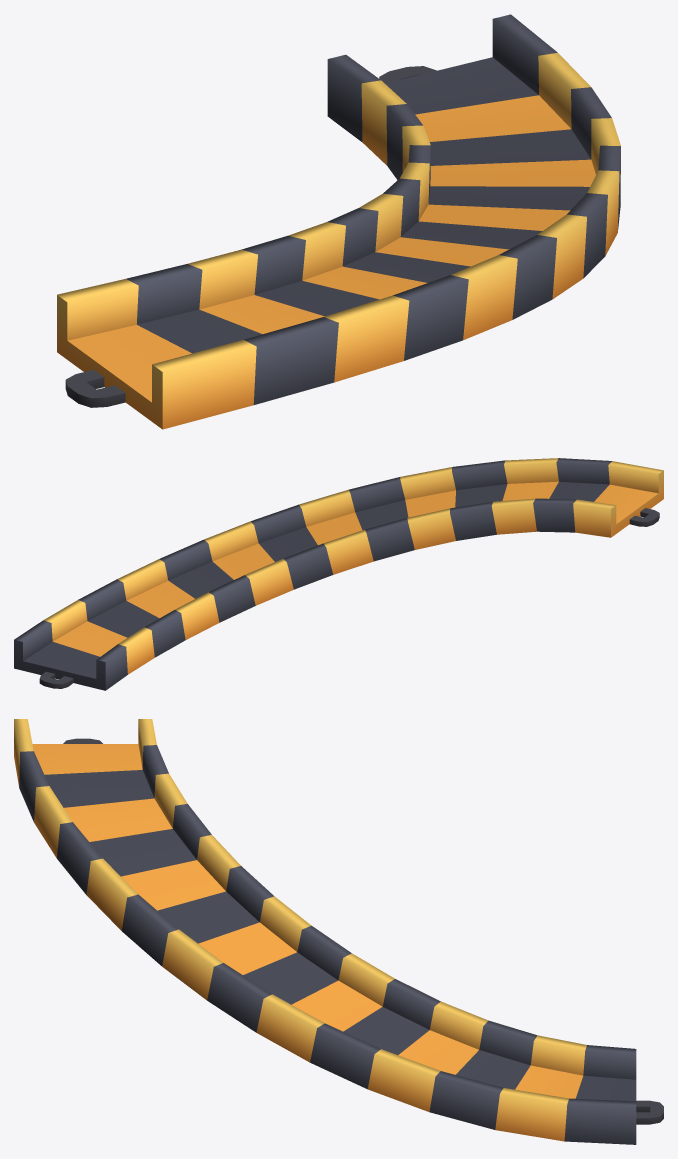
The model's file is track-striped-narrow-corner-large-ramp.fbx.
3 renders of one model, top to bottom at view 1: azimuth 30°, elevation 25°; view 2: azimuth 150°, elevation 25°; view 3: azimuth 270°, elevation 25°, orthographic. The views are drawn at different scales.
Visible parts, largest first — view 1: track-striped-narrow-corner-large-ramp; view 2: track-striped-narrow-corner-large-ramp; view 3: track-striped-narrow-corner-large-ramp.
Part boxes in pixels (bbox=[...]): track-striped-narrow-corner-large-ramp: bbox=[57, 14, 620, 429]; track-striped-narrow-corner-large-ramp: bbox=[14, 458, 663, 690]; track-striped-narrow-corner-large-ramp: bbox=[14, 719, 663, 1144].
Size of the model in its own units: 470 by 130 by 470.
